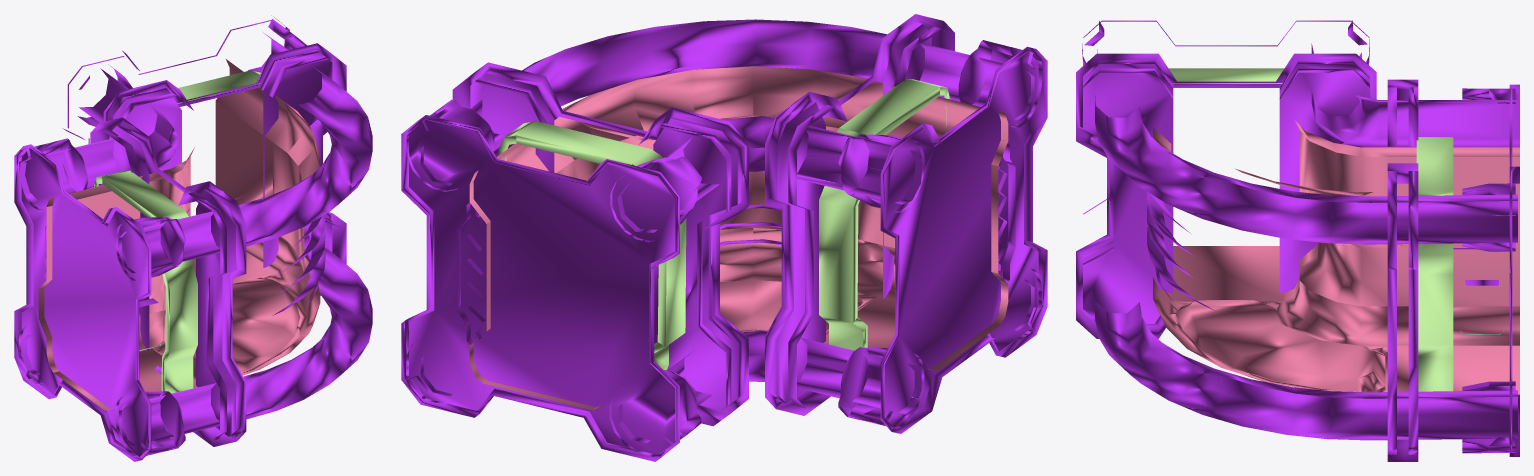
Rendered from pipe_setd_corner_fps_06x06x04_a.glb.
3 views of the same model, side by side, from view 1: azimuth 30°, elevation 25°; view 2: azimuth 150°, elevation 25°; view 3: azimuth 270°, elevation 25° (orthographic). The views are drawn at different scales.
Bounding box in the file's own units: 6.05 × 4.1 × 6.05.
